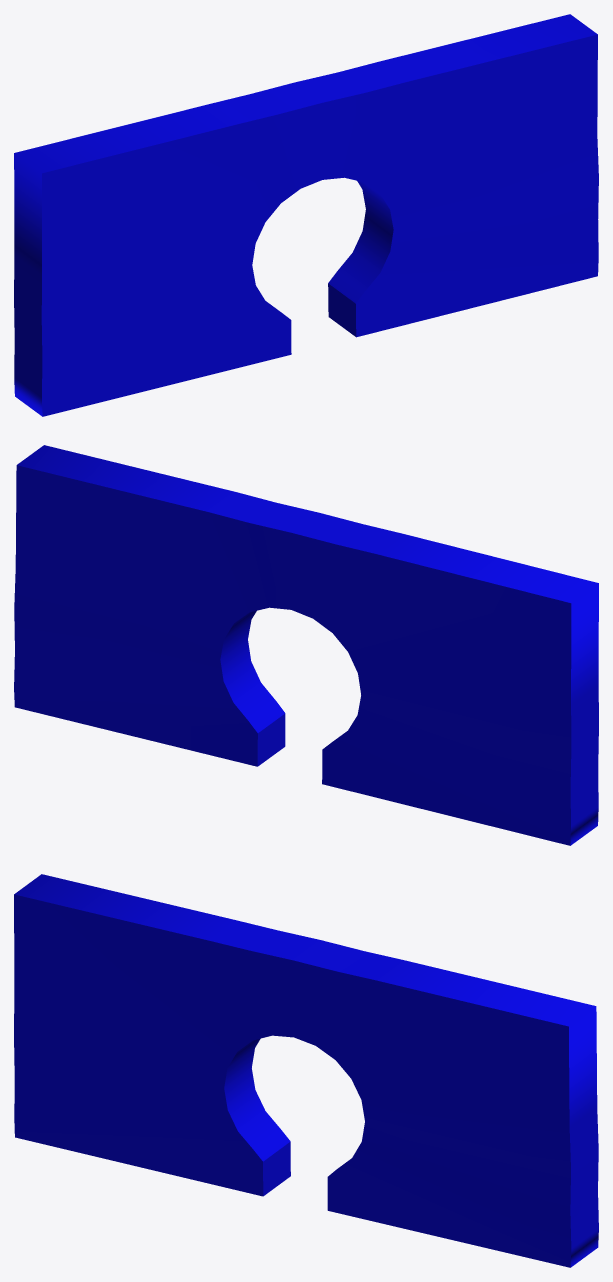
The picture shows the model from 3 angles, top to bottom: view 1: azimuth 30°, elevation 25°; view 2: azimuth 150°, elevation 25°; view 3: azimuth 330°, elevation 25°; orthographic projection.
Parts seen in each view (by area): view 1: pPipe1; view 2: pPipe1; view 3: pPipe1.
Boxes of the visible parts, x1,y1,x2,y2 form: pPipe1: (14,14,598,416); pPipe1: (14,445,598,845); pPipe1: (14,874,598,1267).
Bounding box in the file's own units: 2.03 × 0.8595 × 0.1831.
